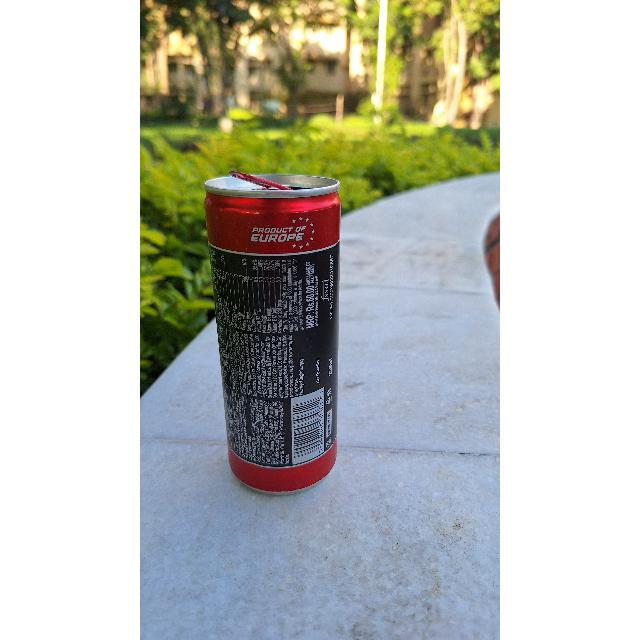Hell Apple: (204, 172, 350, 494)
